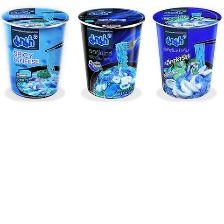paper_cup: (72, 4, 149, 101), (149, 3, 223, 102), (0, 3, 72, 102)
